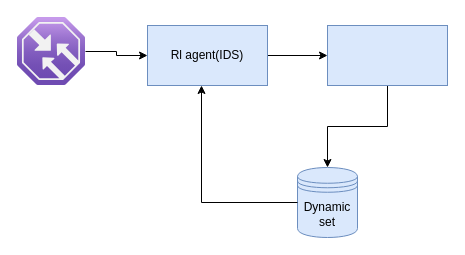
Image size: 465x255. Some labels were removed from this diagram. Here are the shapes that lost their labels. From the top down, the centre of each, then its label:
the point at 51,51: Network traffic
the point at 387,55: Auto encoder
